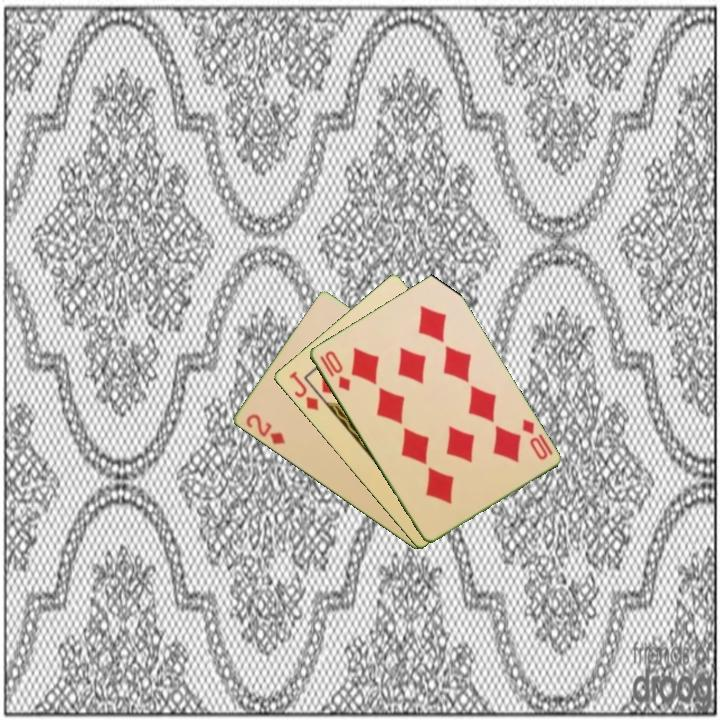10d: (316, 347, 353, 394), (518, 415, 550, 463)
2d: (242, 410, 288, 448)
Jd: (285, 368, 321, 413)
